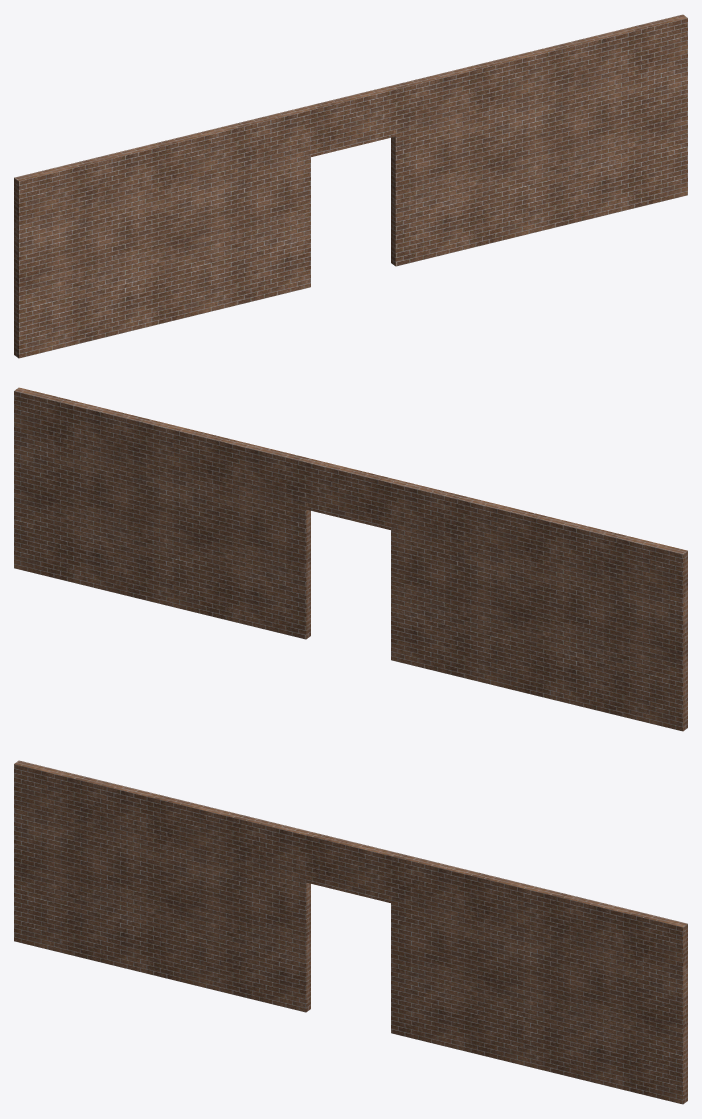
Rendered from Joglo_part_356.fbx.
3 renders of one model, top to bottom at view 1: azimuth 30°, elevation 25°; view 2: azimuth 150°, elevation 25°; view 3: azimuth 330°, elevation 25°, orthographic.
Visible parts, largest first — view 1: Mesh40_Brick___Brown_0.001; view 2: Mesh40_Brick___Brown_0.001; view 3: Mesh40_Brick___Brown_0.001.
Boxes of the visible parts, x1=… form: Mesh40_Brick___Brown_0.001: x1=14, y1=14, x2=687, y2=358; Mesh40_Brick___Brown_0.001: x1=14, y1=387, x2=687, y2=731; Mesh40_Brick___Brown_0.001: x1=14, y1=760, x2=687, y2=1104.
Bounding box in the file's own units: 467 × 118 × 5.91.
